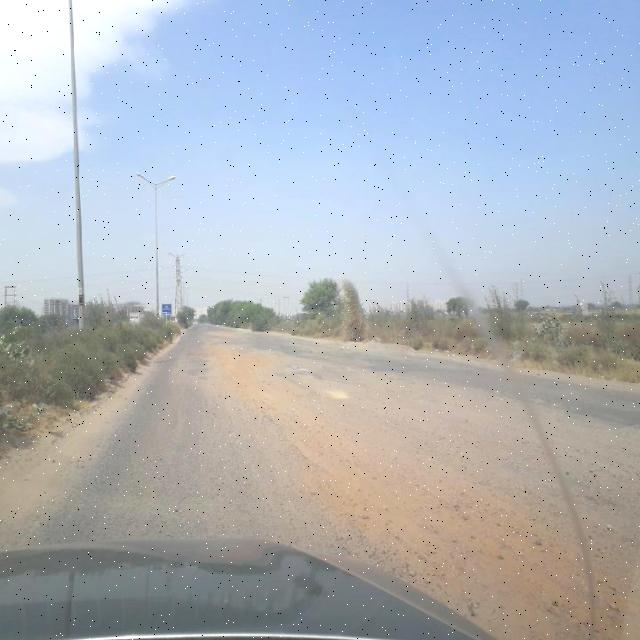D40: (272, 372, 637, 634)
